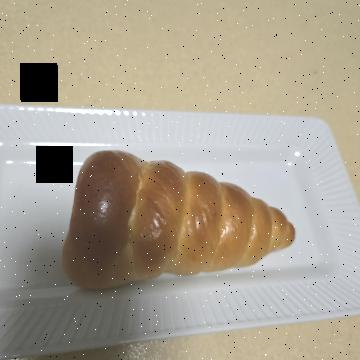cream horn: (127, 58, 308, 314)
